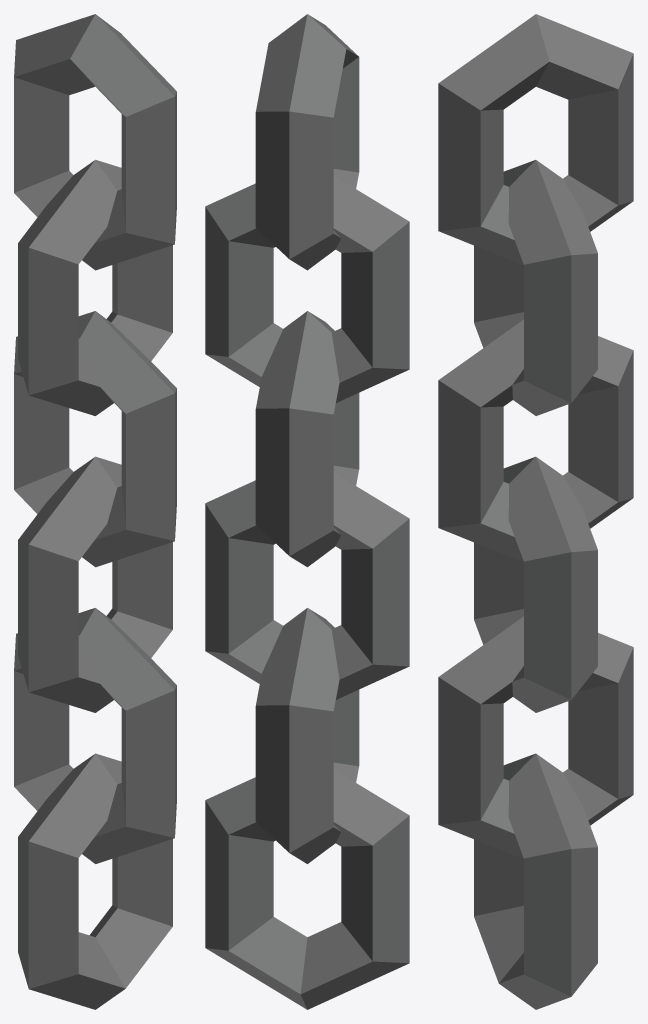
File: SFM_FP_Chain_002.fbx
3 renders of one model, left to right at view 1: azimuth 30°, elevation 25°; view 2: azimuth 150°, elevation 25°; view 3: azimuth 270°, elevation 25°, orthographic.
Parts seen in each view (by area): view 1: SFM_FP_Chain_002; view 2: SFM_FP_Chain_002; view 3: SFM_FP_Chain_002.
Part boxes in pixels (<box>): SFM_FP_Chain_002: <box>14,14,176,1009</box>; SFM_FP_Chain_002: <box>205,14,409,1009</box>; SFM_FP_Chain_002: <box>438,14,633,1009</box>.
Bounding box in the file's own units: 6.99 × 39.36 × 6.99.
